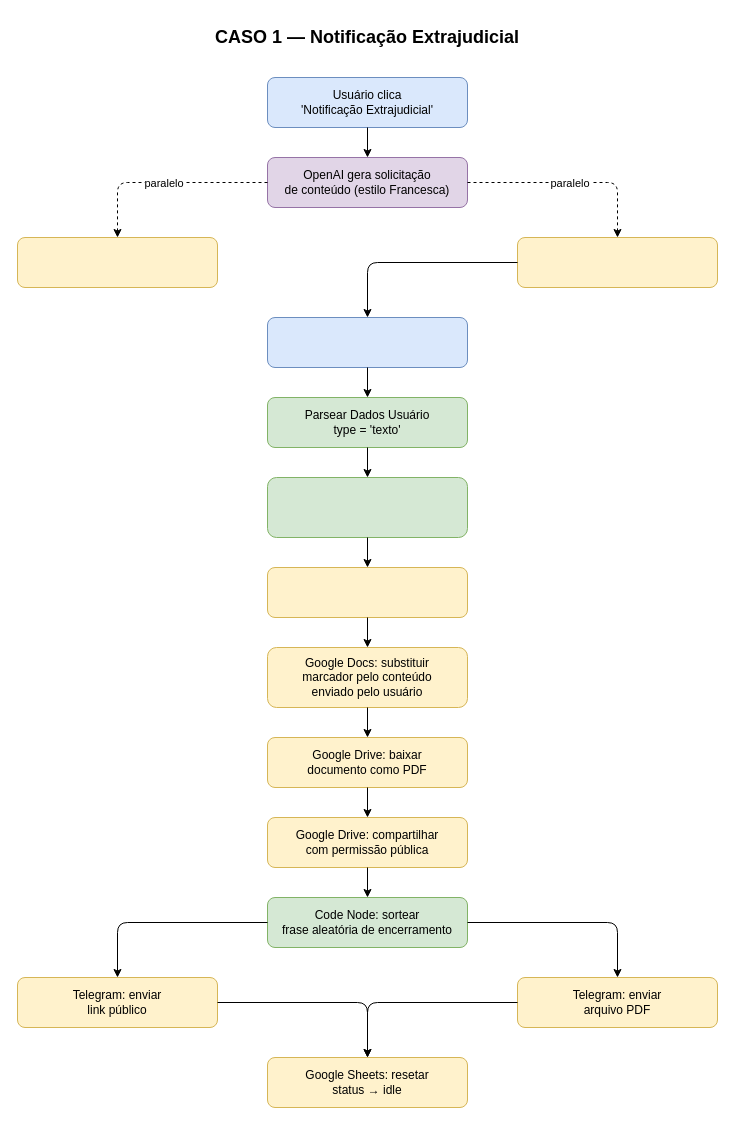
Image size: 735x1125. Some labels were removed from this diagram. The shapes that lost their labels are listed below. From the top down, each one's centre as x and y in pixels, then its label:
At pixel 117 262: "Atualizar status → aguardando_caso1".
At pixel 617 262: "Telegram: enviar solicitação ao usuário".
At pixel 367 342: "Usuário envia texto (ou áudio que será transcrito)".
At pixel 367 507: "Planilha: status = aguardando_caso1 → rotear Caso 1".
At pixel 367 592: "Google Drive: Copiar Template_Caso1 (renomea dinamicamente)".
